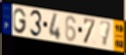3: (28, 9, 44, 38)
4: (48, 12, 62, 41)
6: (64, 15, 78, 43)
7: (83, 17, 97, 45), (99, 20, 112, 49)
G: (13, 8, 28, 35)
